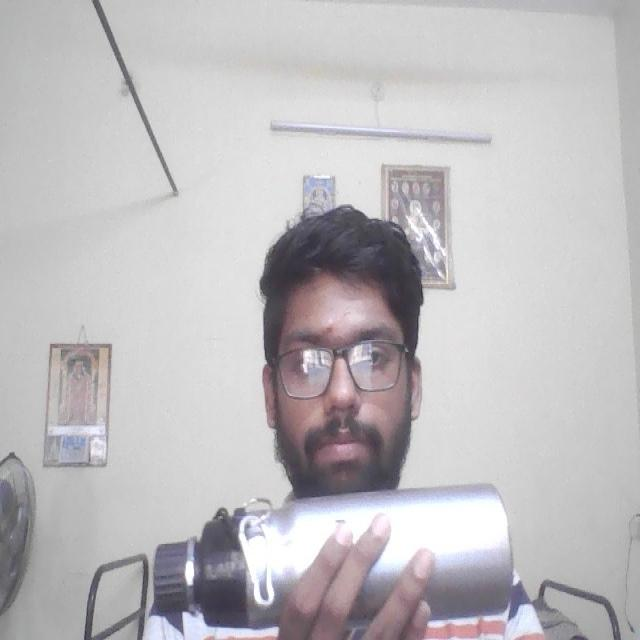Drinking: (150, 494, 520, 618)
